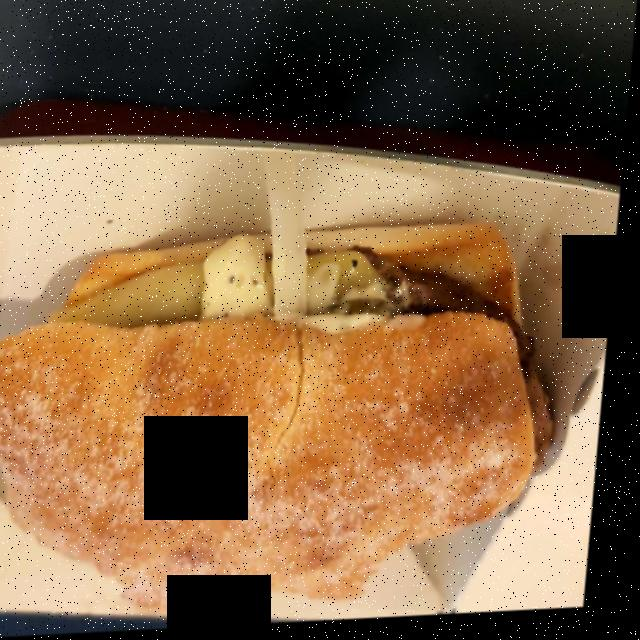hamburger-bread-meat-ketchup: (0, 227, 548, 608)
